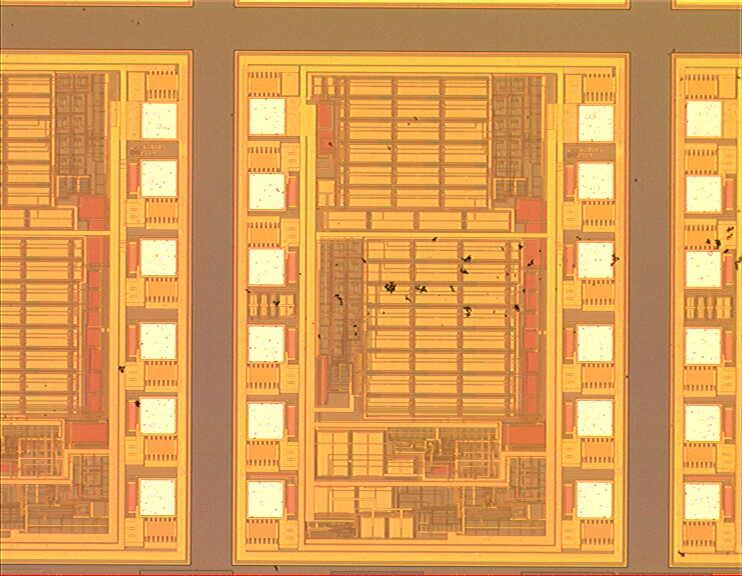PO CONTAMINATION: (116, 176, 742, 415)
